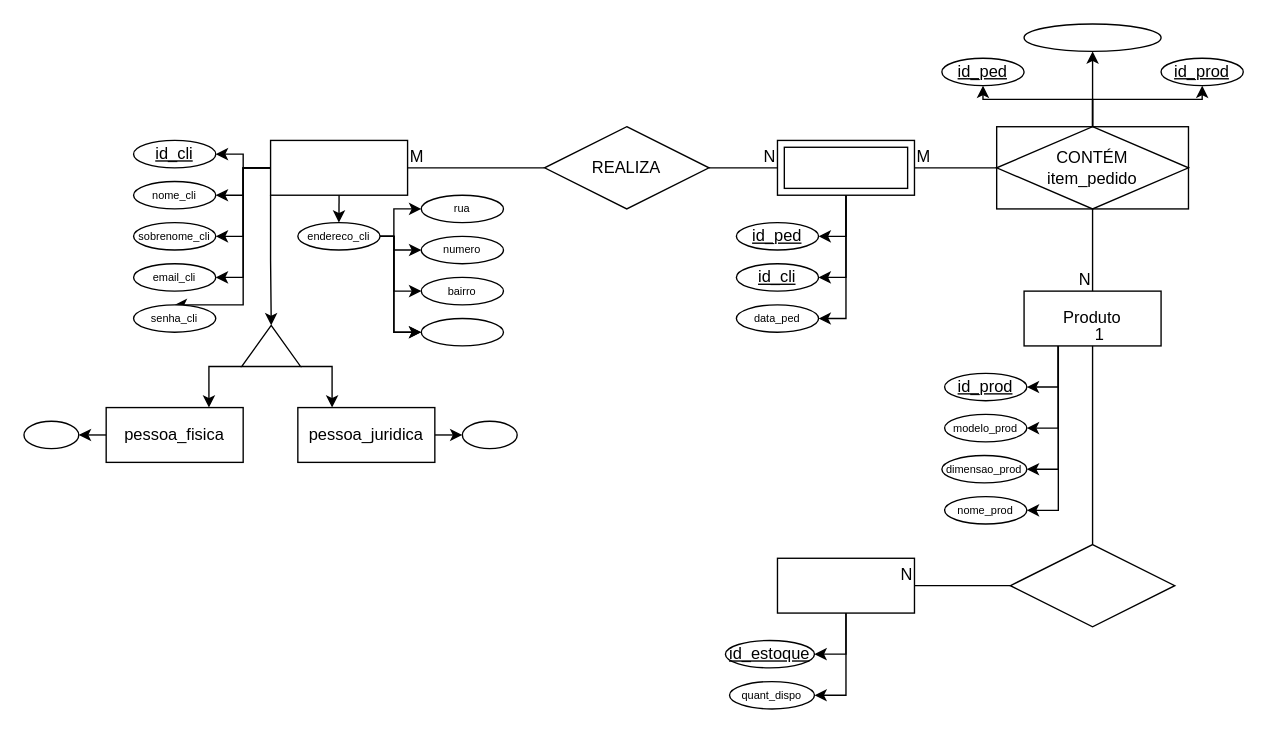
Some shapes in this 1267 by 733 pixel diagram are drawn without their labels. Here are the shapes that lost their labels. From the top down, the centre of each, then its label:
At [1092,37]: "id_item_pedido".
At [338,167]: "Cliente".
At [845,167]: "Pedido".
At [461,331]: "cidade".
At [51,434]: "cnpj_cli".
At [489,434]: "cpf_cli".
At [845,585]: "Estoque".
At [1092,585]: "POSSUI".
